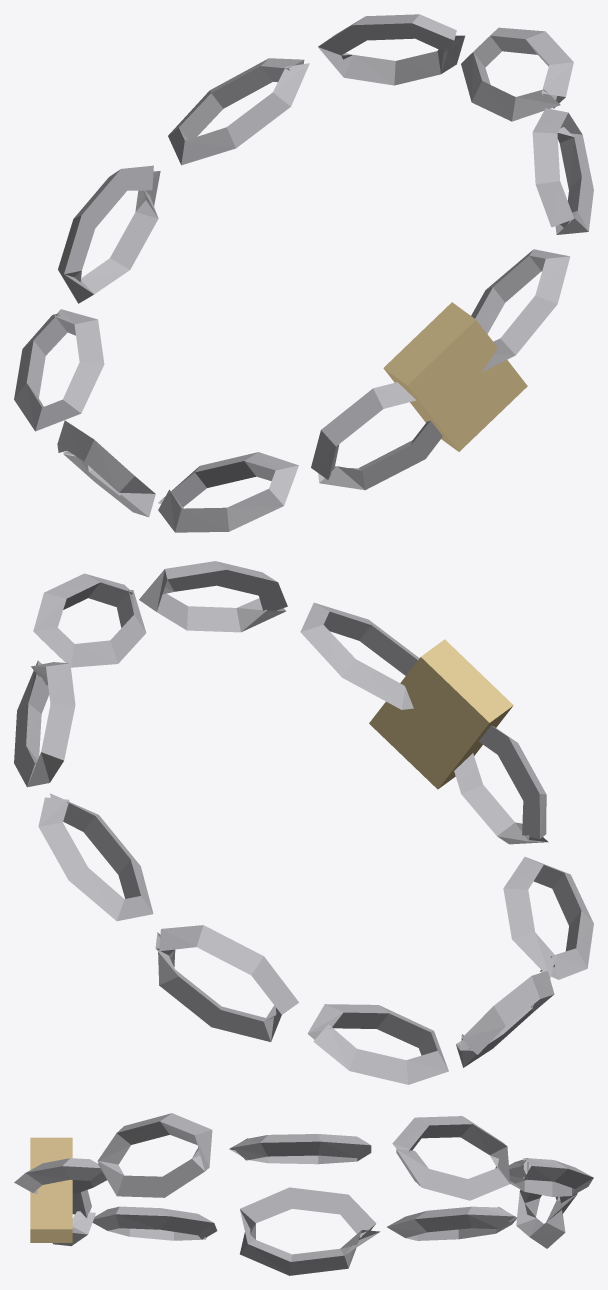
Rendered from ob_chain1.glb.
3 renders of one model, top to bottom at view 1: azimuth 30°, elevation 25°; view 2: azimuth 150°, elevation 25°; view 3: azimuth 270°, elevation 25°, orthographic. The views are drawn at different scales.
Size of the model in its own units: 1.15 by 0.8326 by 1.37.
